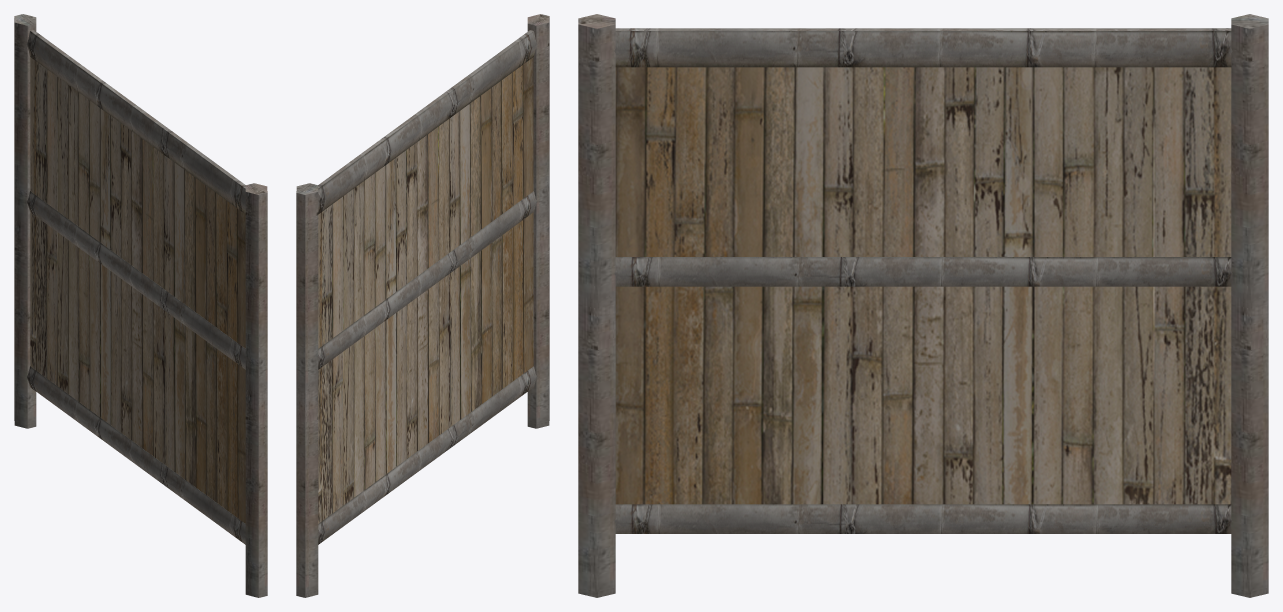
Rendered from BambooFence01a.fbx.
3 views of the same model, side by side, from view 1: azimuth 30°, elevation 25°; view 2: azimuth 150°, elevation 25°; view 3: azimuth 270°, elevation 25° (orthographic). The views are drawn at different scales.
Visible parts, largest first — view 1: BambooFence01a; view 2: BambooFence01a; view 3: BambooFence01a.
Part boxes in pixels (left/top/right/bottom): BambooFence01a: left=14, top=14, right=267, bottom=597; BambooFence01a: left=296, top=14, right=549, bottom=597; BambooFence01a: left=578, top=14, right=1268, bottom=597.
Bounding box in the file's own units: 0.0655 × 1.17 × 1.28.
